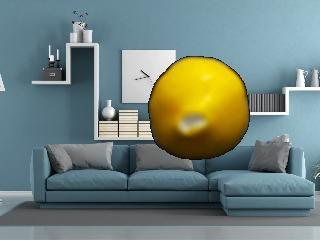lemon: (148, 57, 247, 158)
